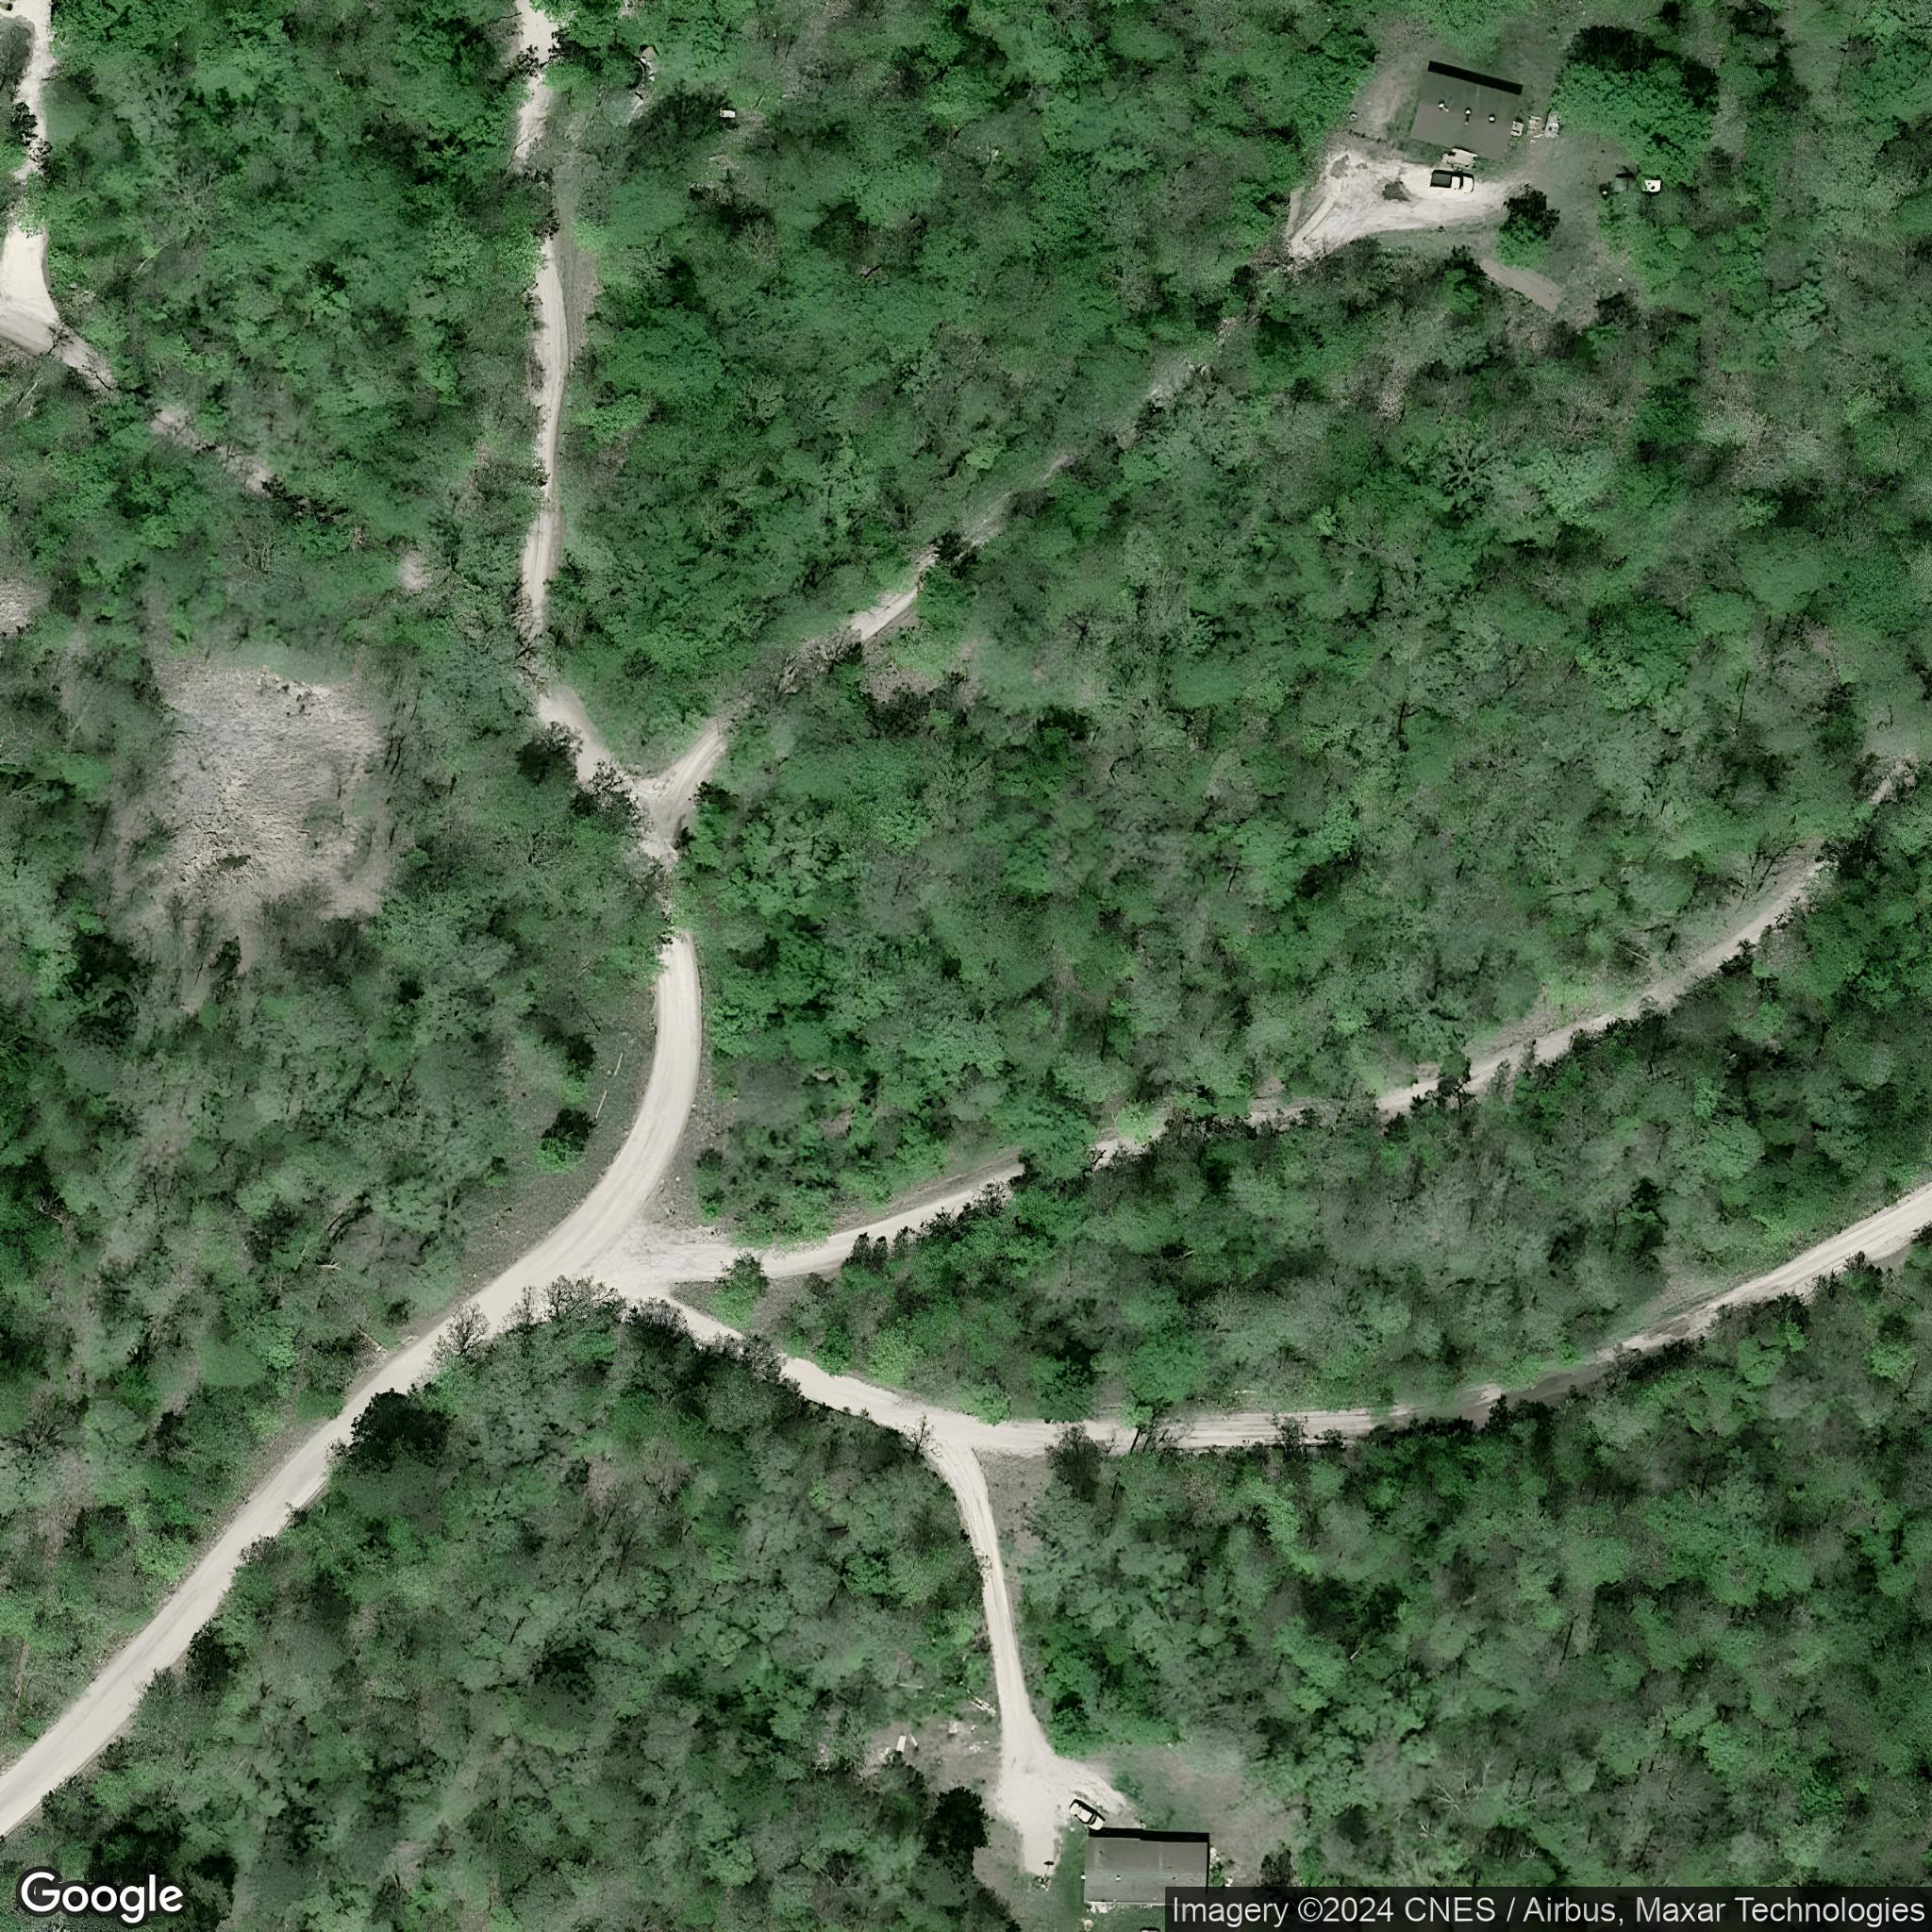House: (1408, 69, 1520, 161), (1081, 1836, 1210, 1904)
